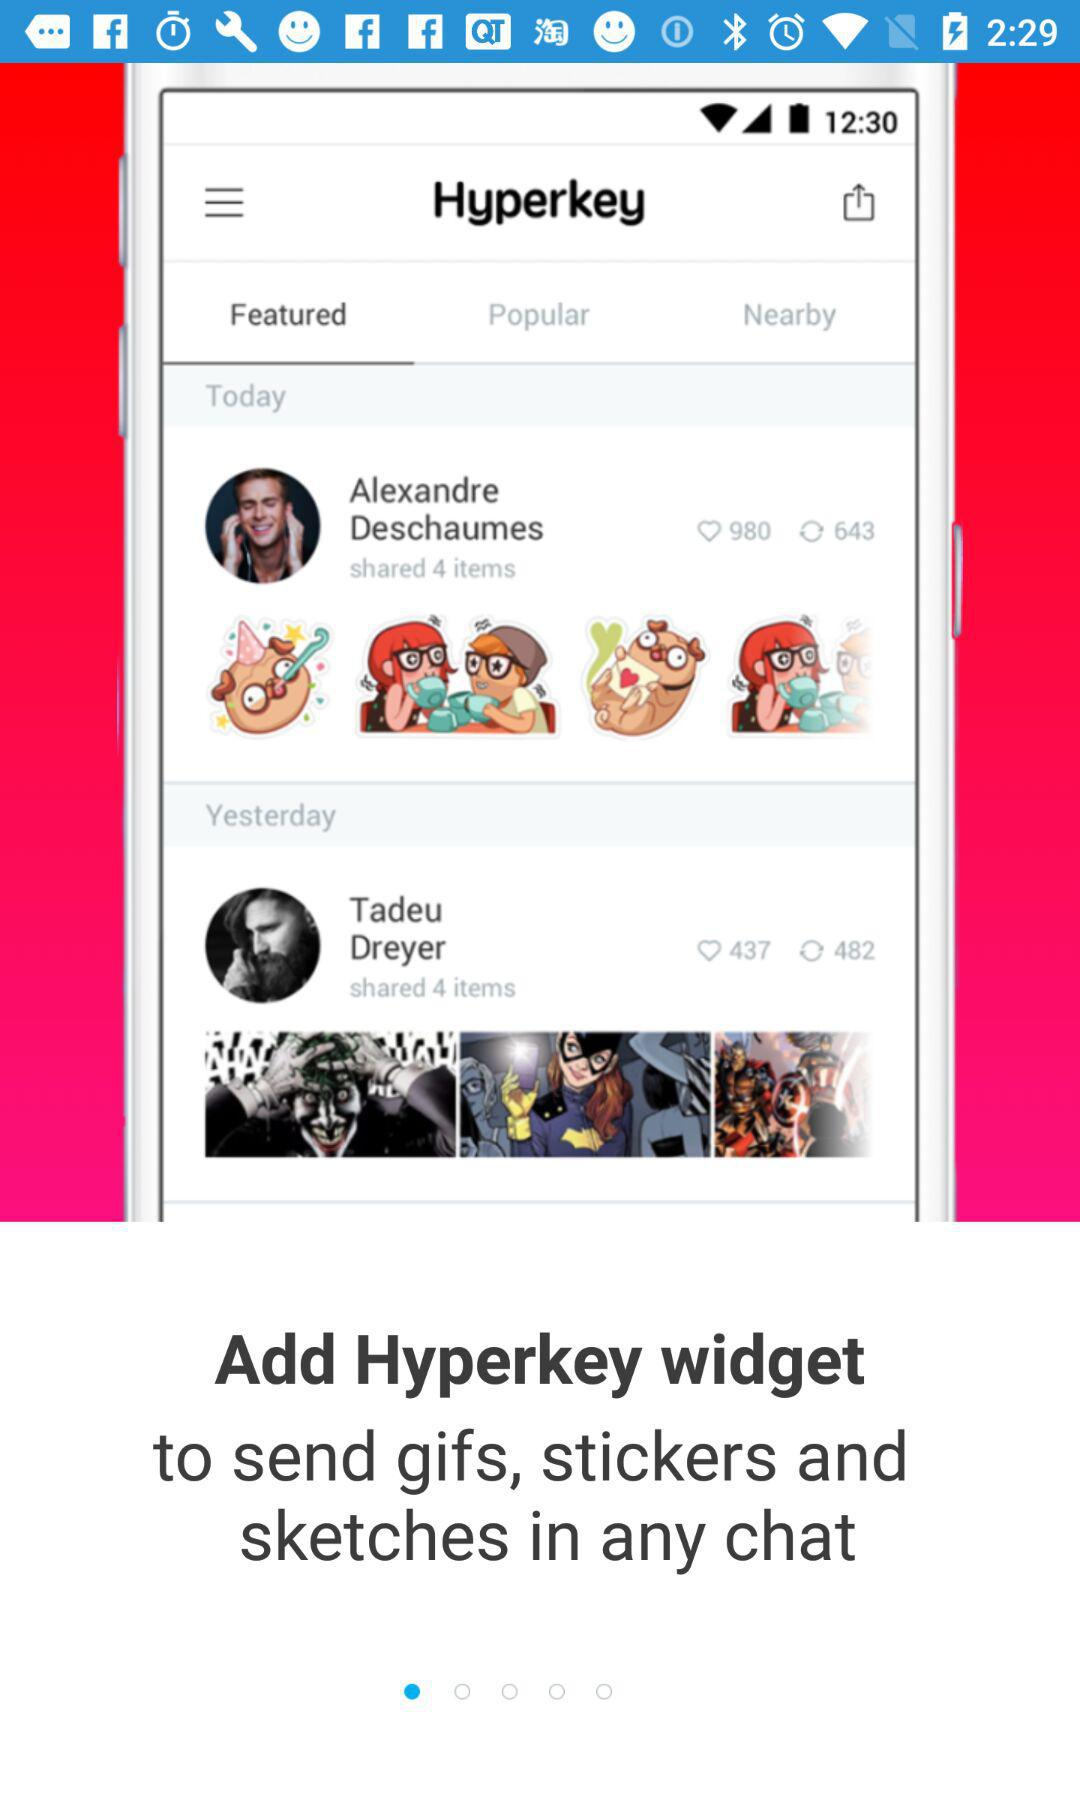Image: (117, 64, 963, 1222)
PageIndicator: (404, 1683, 614, 1700)
Text: (152, 1428, 910, 1579), (213, 1330, 867, 1401)
UpperTaskBar: (1, 1, 1080, 64)
